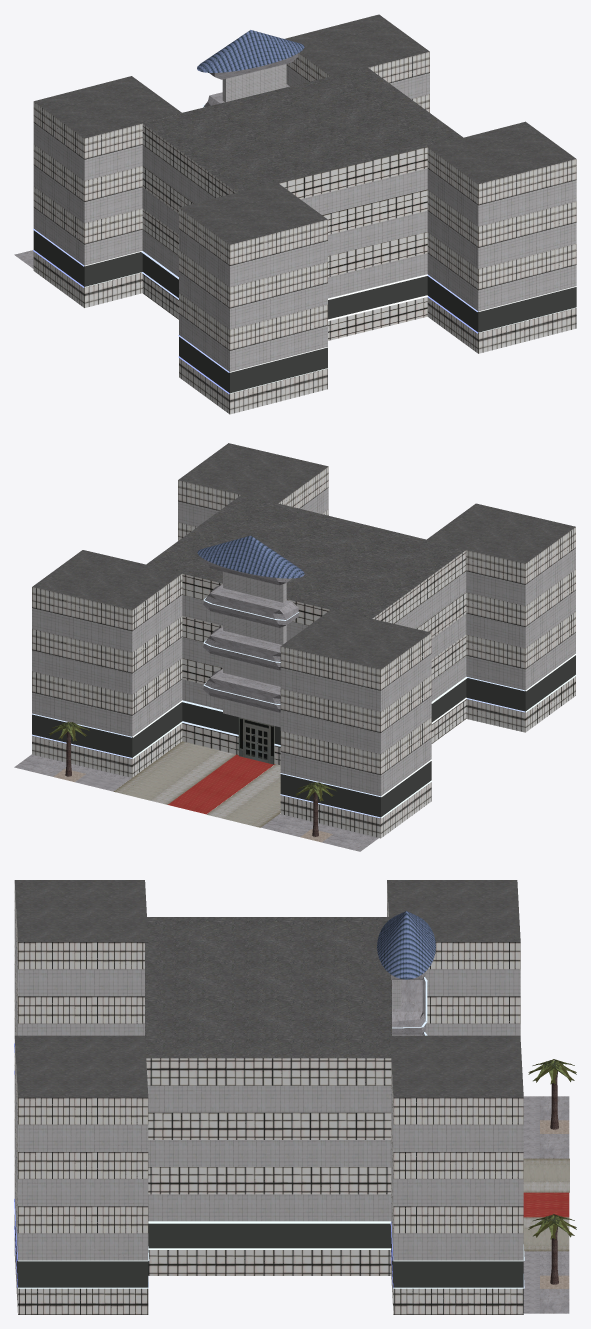
File: The_Strip_GTA_SA_Bat.glb
3 views of the same model, one above another, from view 1: azimuth 30°, elevation 25°; view 2: azimuth 150°, elevation 25°; view 3: azimuth 270°, elevation 25° (orthographic). The views are drawn at different scales.
Parts seen in each view (by area): view 1: Cube.112, Cube.056, Cube.058, Cube.057, Cube.046, Cone.012, Cube.118; view 2: Cube.112, Cube.057, Cube.046, Cube.058, Cube.056, Plane.008, Plane.010, Cone.012, Plane.009, Cube.114, Cube.113, Cube.055 (+7 smaller); view 3: Cube.112, Cube.056, Cube.046, Cube.058, Cube.057, Cone.012, Cube.114, Plane.009, Plane.010, Plane.008, Plane.007, Plane.003 (+4 smaller).
Part boxes in pixels (x1,y1,x2,y2): Cube.112: (141, 68, 462, 340); Cube.056: (427, 121, 576, 353); Cube.058: (178, 182, 327, 414); Cube.057: (33, 76, 182, 307); Cube.046: (285, 14, 429, 112); Cone.012: (197, 30, 304, 72); Cube.118: (222, 64, 286, 102); Cube.112: (146, 495, 466, 765); Cube.057: (280, 609, 431, 838); Cube.046: (32, 550, 182, 777); Cube.058: (425, 503, 576, 732); Cube.056: (178, 443, 328, 540); Plane.008: (113, 741, 235, 804); Plane.010: (168, 754, 274, 814); Cone.012: (197, 535, 304, 578); Plane.009: (207, 764, 280, 827); Cube.114: (203, 584, 298, 627); Cube.113: (203, 627, 281, 670); Cube.055: (203, 669, 280, 712); Cube.112: (145, 917, 391, 1275); Cube.056: (14, 1035, 149, 1314); Cube.046: (390, 1035, 524, 1314); Cube.058: (14, 880, 148, 1074); Cube.057: (387, 880, 520, 1035); Cone.012: (377, 911, 435, 979); Cube.114: (392, 977, 427, 1034); Plane.009: (523, 1158, 569, 1192); Plane.010: (523, 1192, 569, 1217); Plane.008: (523, 1217, 569, 1251); Plane.007: (523, 1096, 539, 1158); Plane.003: (521, 1251, 539, 1313).
Bounding box in the file's own units: 118 × 74.6 × 129.
13 materials, 12 textured.
